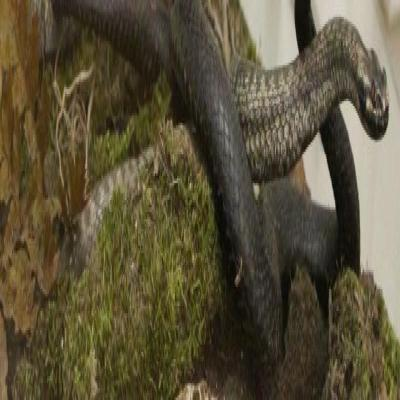natural_science_collection: (51, 0, 390, 400)
